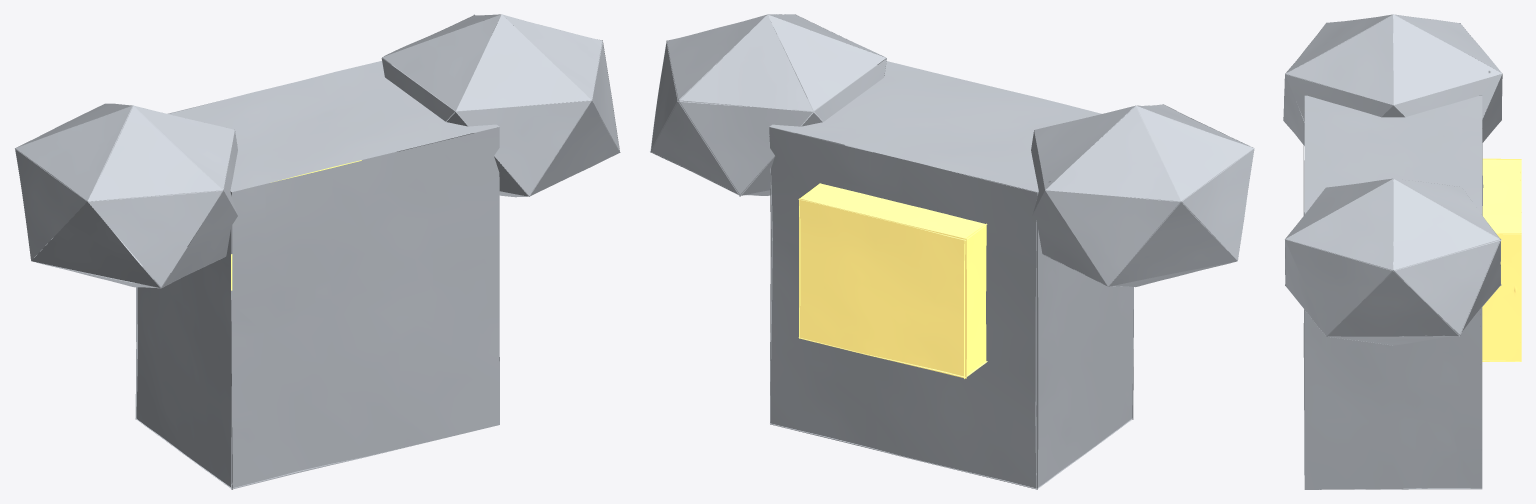
Rendered from armor.glb.
The picture shows the model from 3 angles, left to right: view 1: azimuth 30°, elevation 25°; view 2: azimuth 150°, elevation 25°; view 3: azimuth 270°, elevation 25°; orthographic projection. The views are drawn at different scales.
Parts seen in each view (by area): view 1: ArmorTorso; view 2: ArmorTorso; view 3: ArmorTorso.
Boxes of the visible parts, x1=… form: ArmorTorso: x1=15, y1=14, x2=620, y2=489; ArmorTorso: x1=649, y1=14, x2=1254, y2=489; ArmorTorso: x1=1283, y1=14, x2=1521, y2=489.
Size of the model in its own units: 1.71 by 1.04 by 0.6694.
